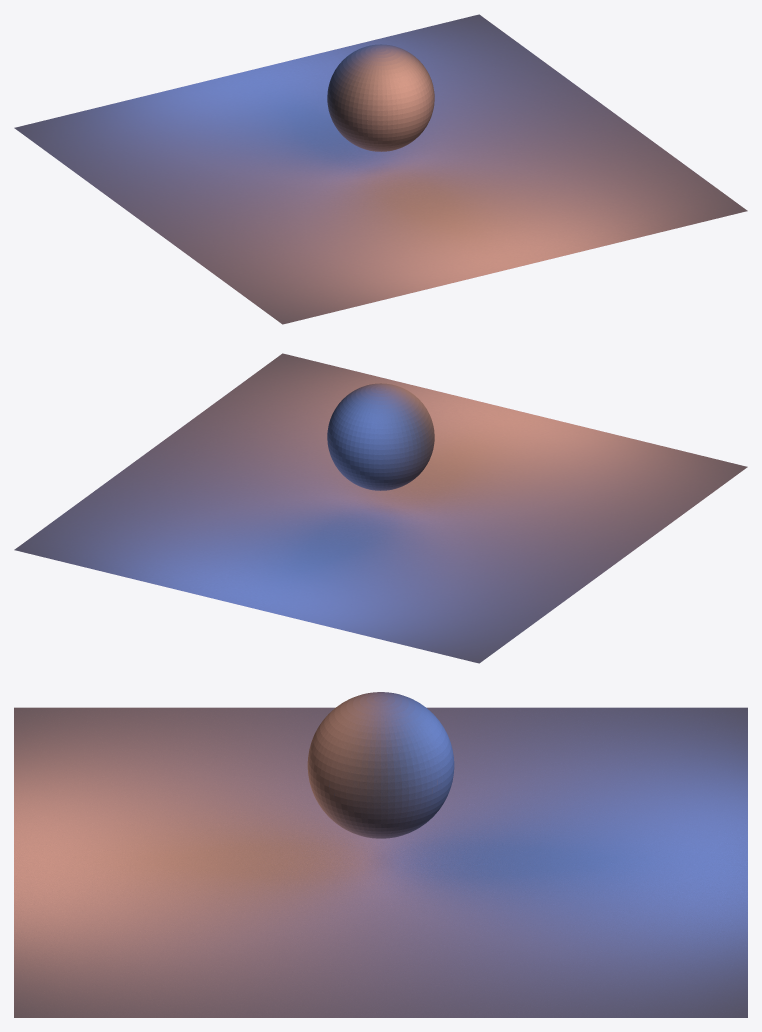
3 views of the same model, one above another, from view 1: azimuth 30°, elevation 25°; view 2: azimuth 150°, elevation 25°; view 3: azimuth 270°, elevation 25° (orthographic). The views are drawn at different scales.
Parts seen in each view (by area): view 1: Sphere; view 2: Sphere; view 3: Sphere.
Boxes of the visible parts, <box> form: Sphere: <box>14,14,747,324</box>; Sphere: <box>14,353,747,663</box>; Sphere: <box>14,692,747,1017</box>.
Bounding box in the file's own units: 200 × 49.3 × 200.
Materials: 1 (1 with a texture image).
